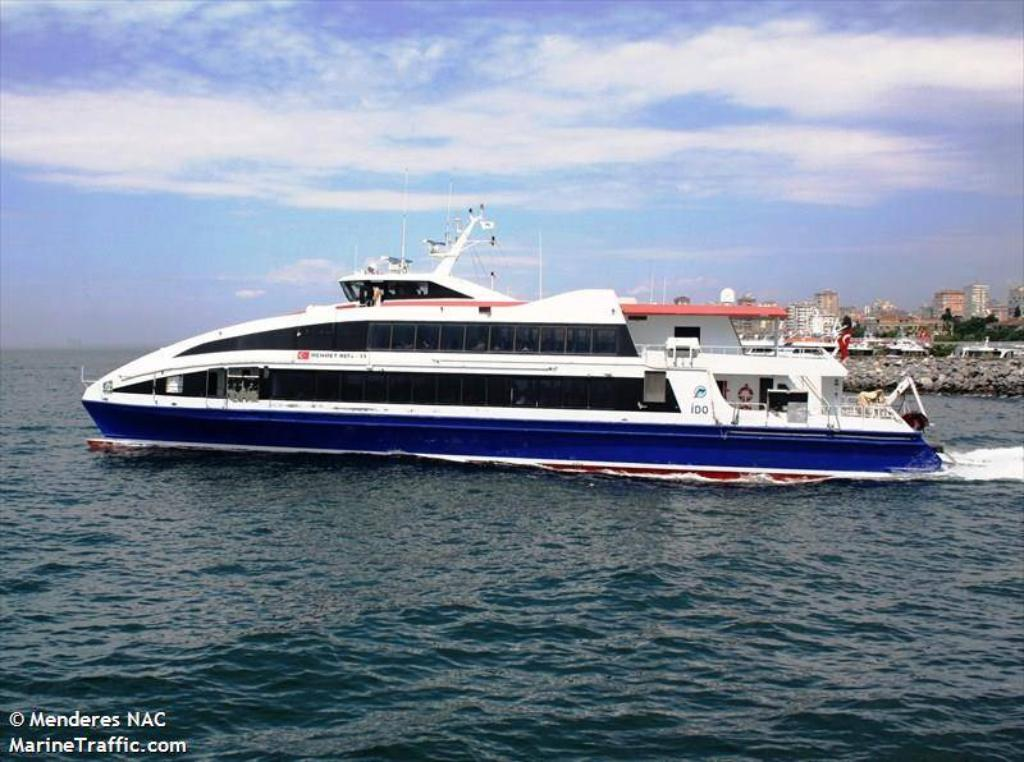PassengerShip: (72, 177, 956, 495)
